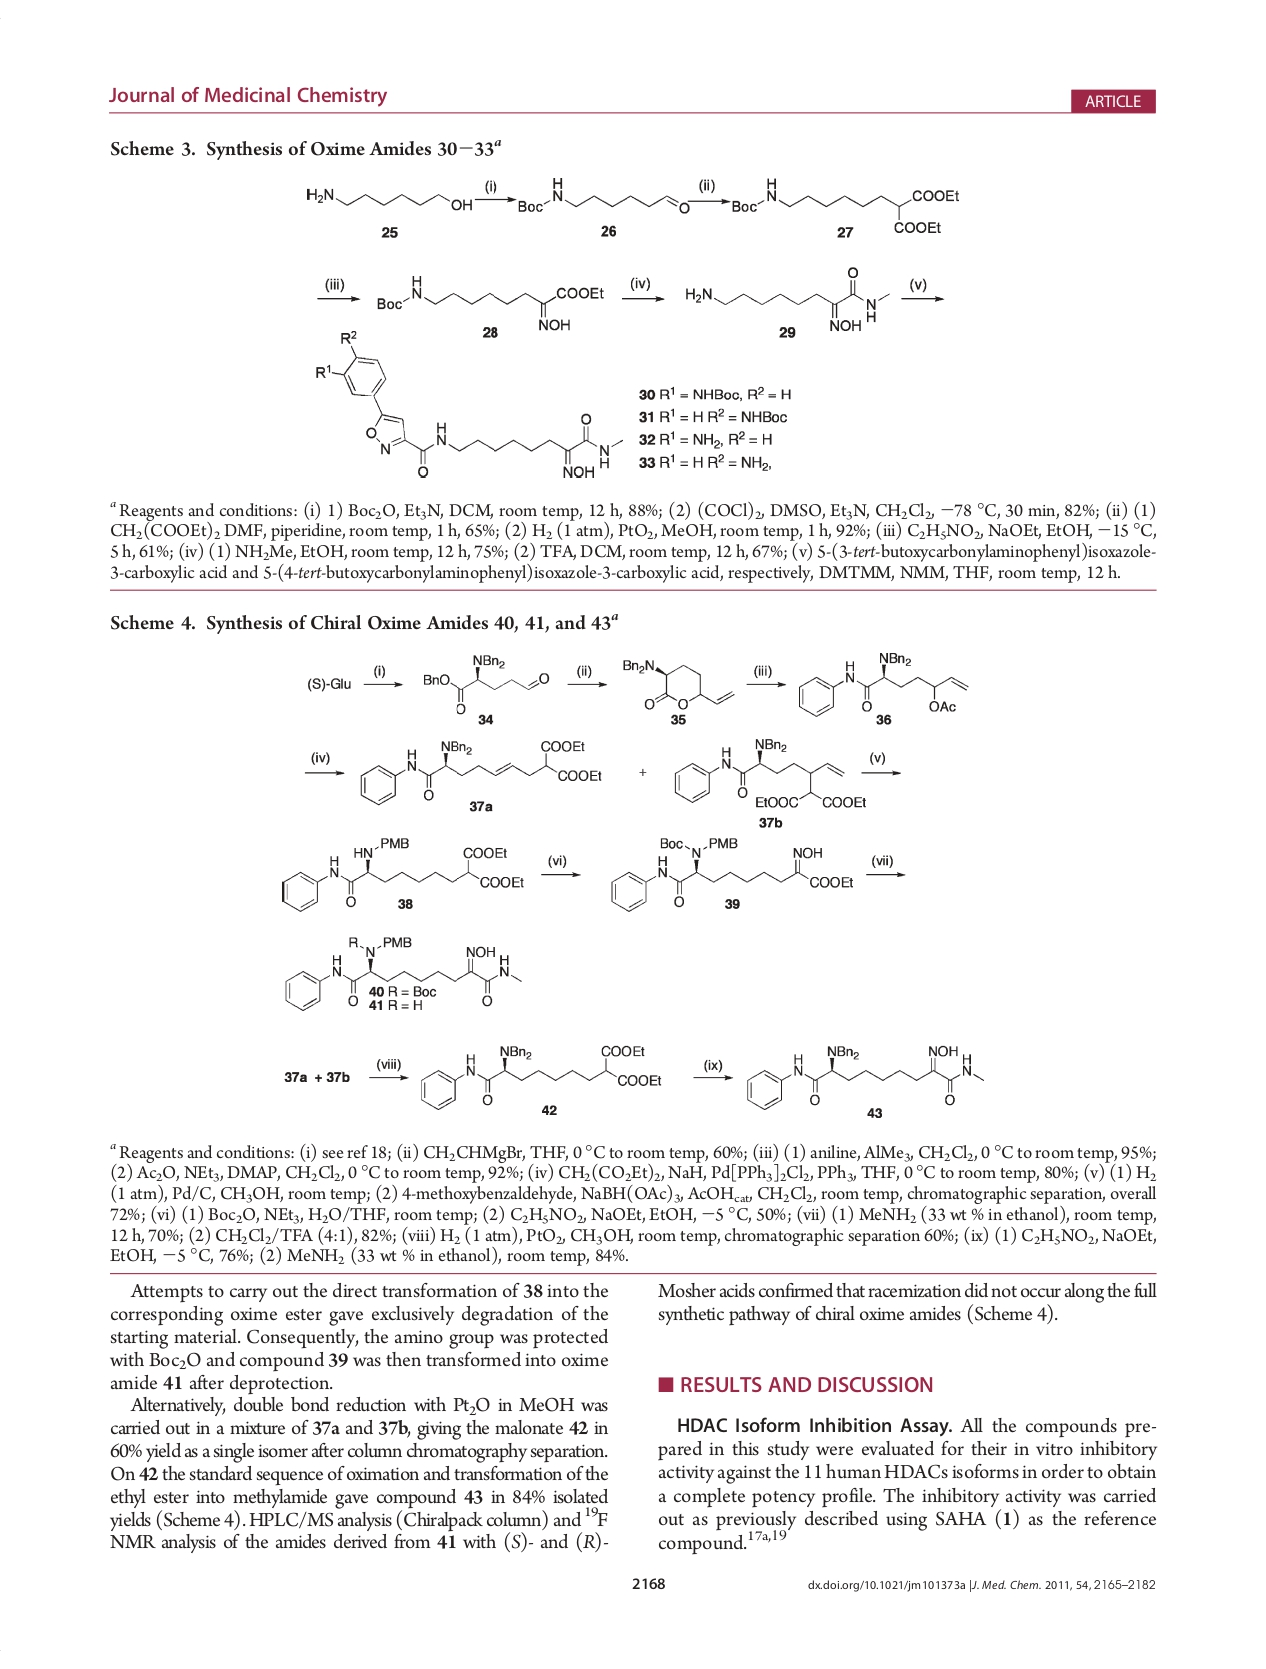exist_molecular: (310, 328, 626, 483), (608, 830, 856, 914), (282, 930, 523, 1013), (279, 836, 525, 914), (415, 1039, 664, 1110), (359, 734, 605, 806), (743, 1040, 988, 1110), (673, 737, 868, 813), (730, 176, 961, 238), (684, 266, 894, 334), (374, 273, 606, 332), (794, 648, 973, 719), (515, 176, 690, 223), (419, 653, 551, 714), (616, 652, 739, 711), (305, 182, 473, 219)
